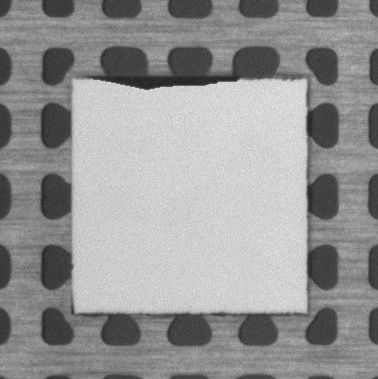DIE_BROKEN: (84, 70, 239, 94)
